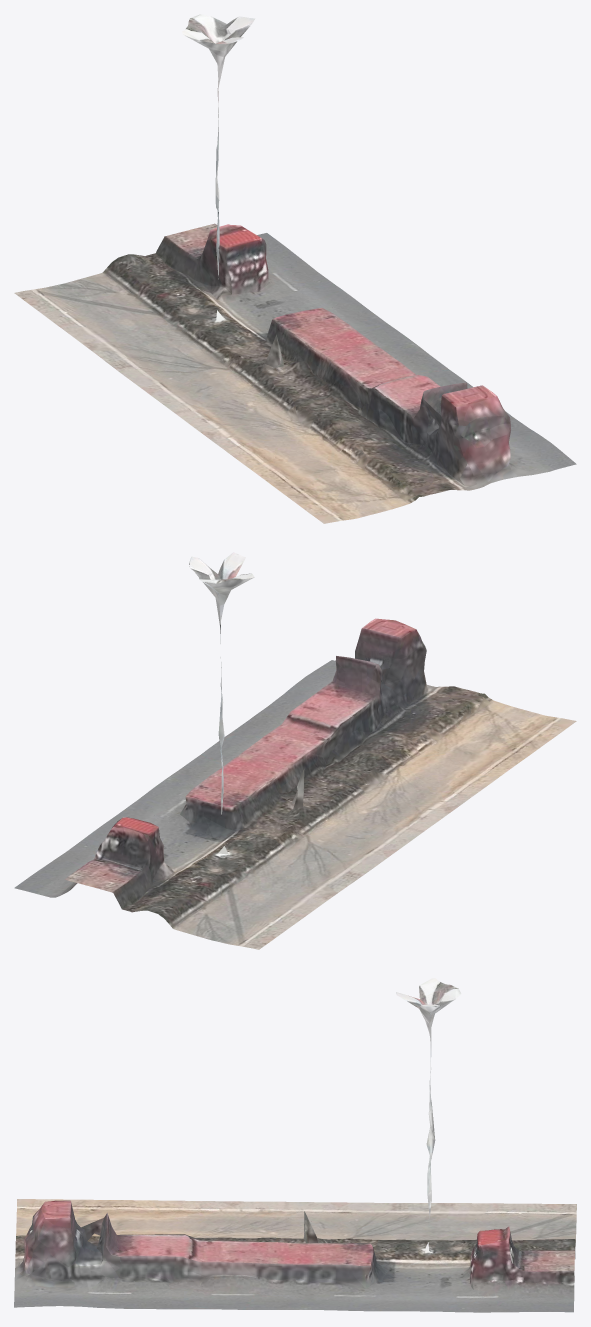
The model's file is Tile_+004_+010_L21_0uuuu000.glb.
3 renders of one model, top to bottom at view 1: azimuth 30°, elevation 25°; view 2: azimuth 150°, elevation 25°; view 3: azimuth 270°, elevation 25°, orthographic. The views are drawn at different scales.
Visible parts, largest first — view 1: rtc; view 2: rtc; view 3: rtc.
Part boxes in pixels (<box>): rtc: <box>14,14,576,523</box>; rtc: <box>14,552,576,949</box>; rtc: <box>14,978,576,1312</box>.
Bounding box in the file's own units: 12.84 × 14.36 × 27.45.
1 material, 1 textured.
